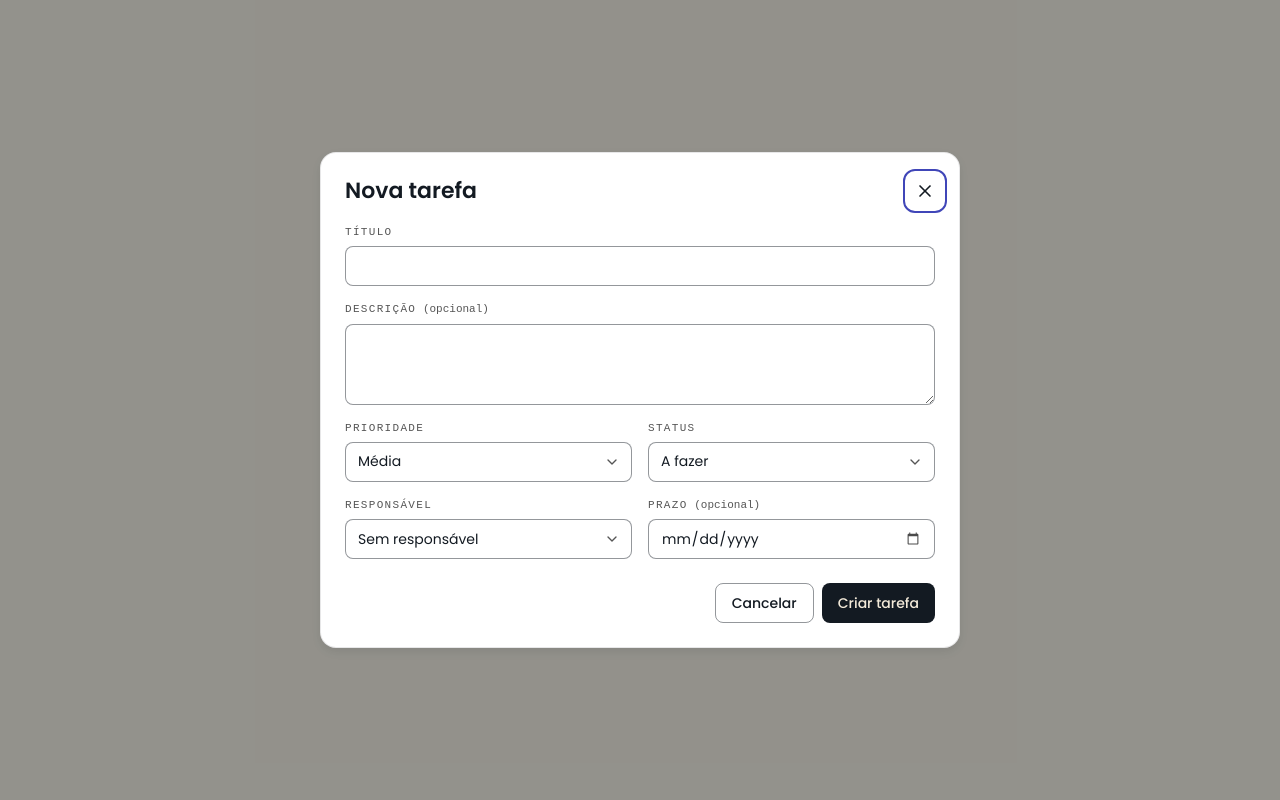
Test: TaskDialog › maps field errors from the API to the fields
The image size is (1280, 800).
In the field labelled "Título": {"x": 640, "y": 266} [345,246,935,286], type "Repetida"
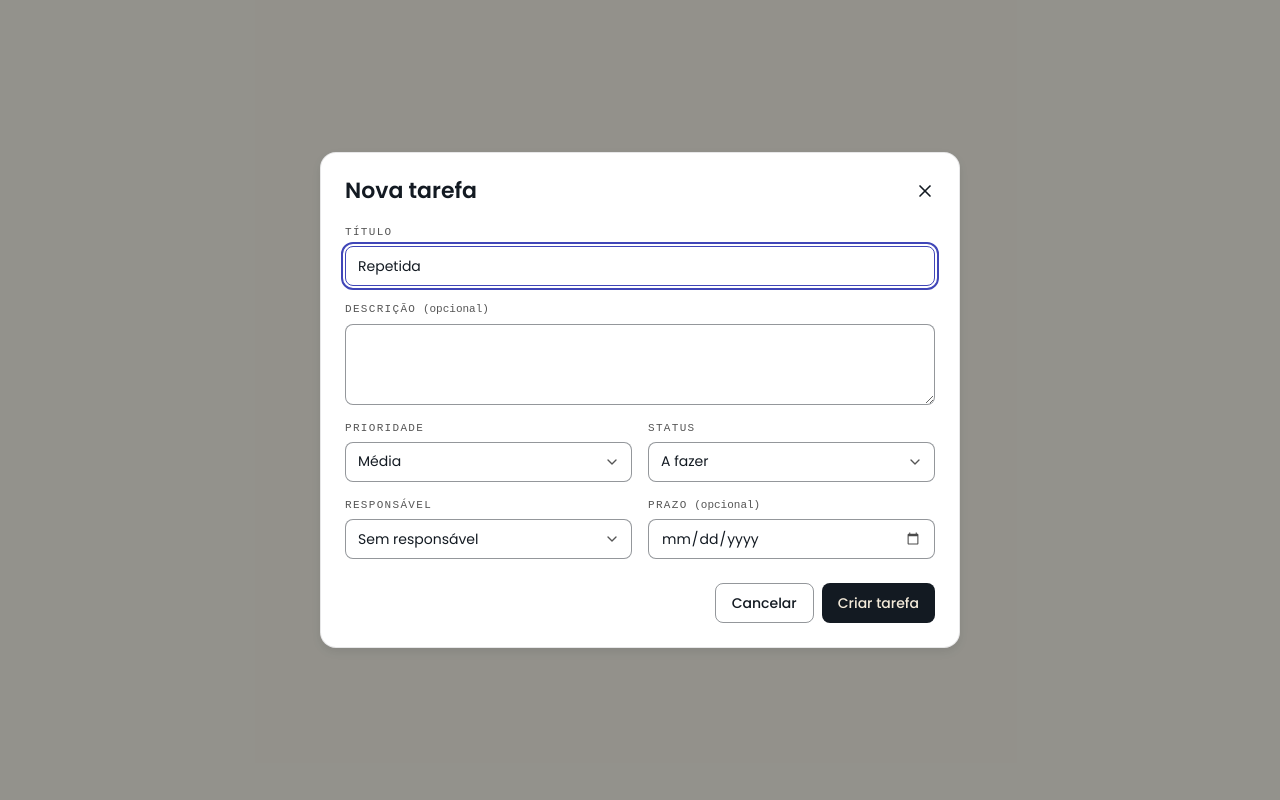
Click the button "Criar tarefa": {"x": 878, "y": 603} [822,583,935,623]
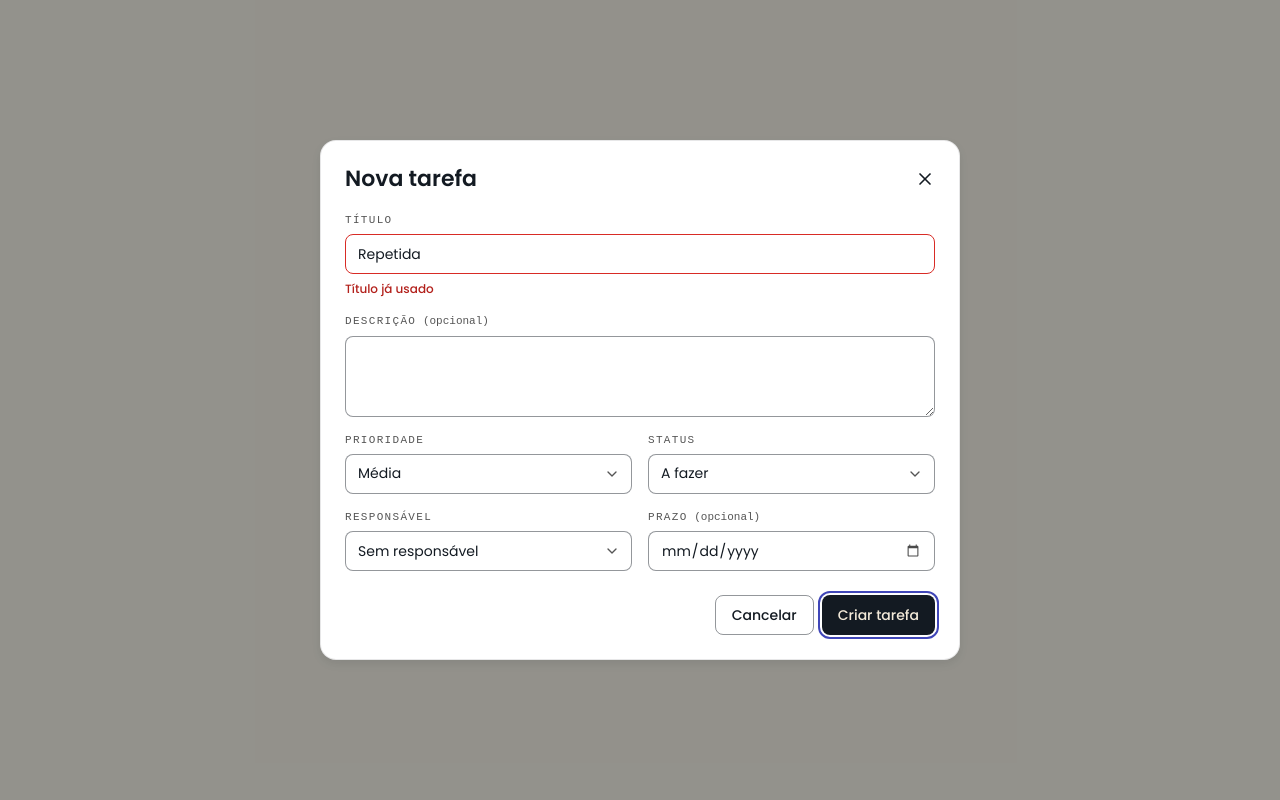
Now the text "Título já usado" is shown, box [345,280,434,297]
